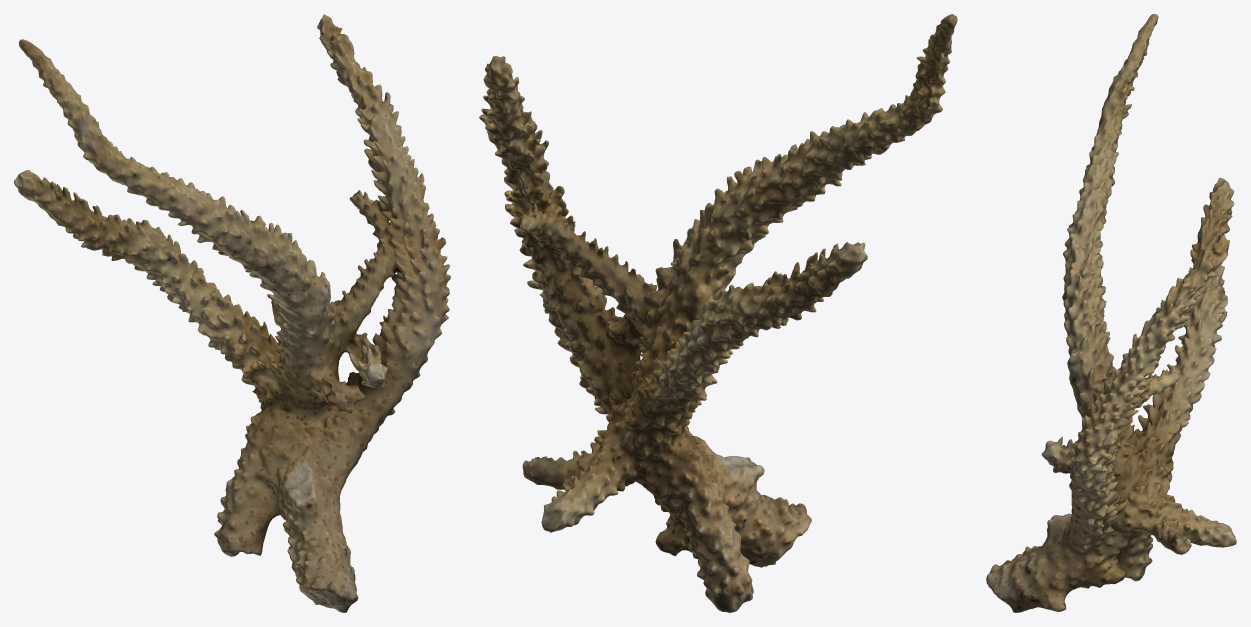
File: acropora_valenciennesi.glb
3 renders of one model, left to right at view 1: azimuth 30°, elevation 25°; view 2: azimuth 150°, elevation 25°; view 3: azimuth 270°, elevation 25°, orthographic. The views are drawn at different scales.
Visible parts, largest first — view 1: Object_4; view 2: Object_4; view 3: Object_4.
Part boxes in pixels (bbox=[...]): Object_4: bbox=[14, 14, 450, 612]; Object_4: bbox=[479, 14, 957, 612]; Object_4: bbox=[986, 14, 1236, 612].
Size of the model in its own units: 0.0961 by 0.1328 by 0.0606.
Materials: 1 (1 with a texture image).
